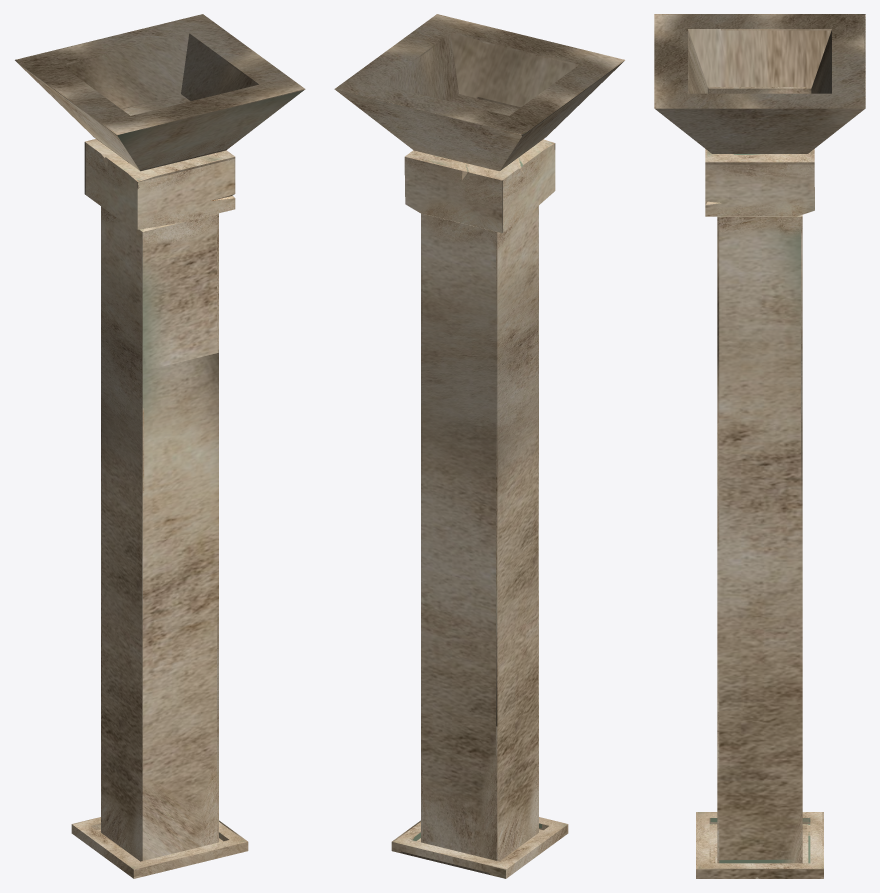
File: bigtorch.glb
3 views of the same model, side by side, from view 1: azimuth 30°, elevation 25°; view 2: azimuth 150°, elevation 25°; view 3: azimuth 270°, elevation 25° (orthographic). The views are drawn at different scales.
Parts seen in each view (by area): view 1: bigtorch; view 2: bigtorch; view 3: bigtorch.
Boxes of the visible parts, box(x1,y1,x2,y2) form: bigtorch: box(15, 14, 305, 878); bigtorch: box(334, 14, 624, 878); bigtorch: box(654, 14, 865, 878).
Size of the model in its own units: 1.28 by 4.99 by 1.21.
Materials: 1 (1 with a texture image).
